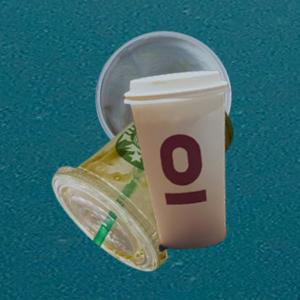cup: (124, 70, 232, 247)
